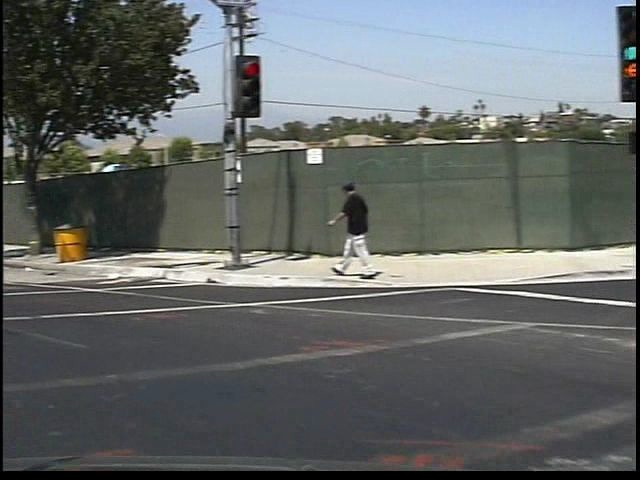person: (319, 165, 369, 286)
